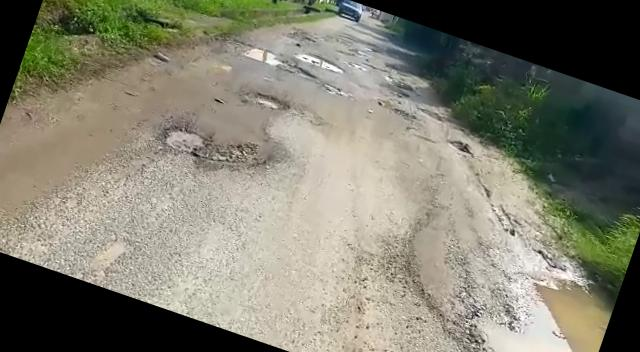pothole: (439, 251, 617, 352), (156, 112, 262, 176), (229, 37, 291, 72), (244, 86, 292, 115), (294, 48, 346, 74)
